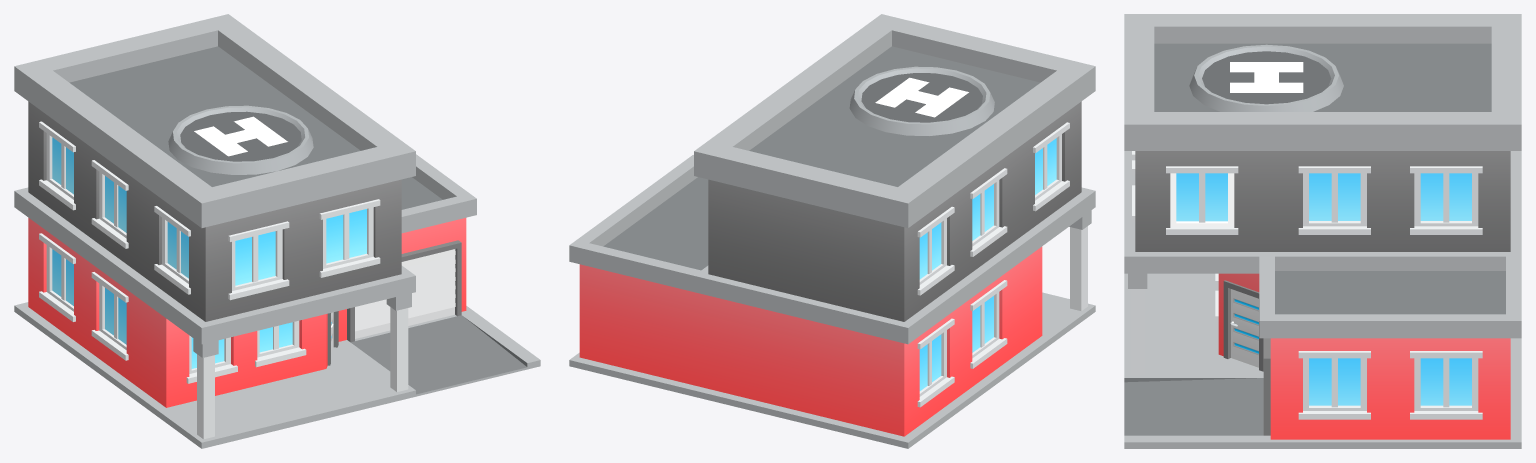
File: Building_Institution_03.glb
3 renders of one model, left to right at view 1: azimuth 30°, elevation 25°; view 2: azimuth 150°, elevation 25°; view 3: azimuth 270°, elevation 25°, orthographic. The views are drawn at different scales.
Parts seen in each view (by area): view 1: Building_Institution_03; view 2: Building_Institution_03; view 3: Building_Institution_03.
Boxes of the visible parts, left/top/right/bottom form: Building_Institution_03: left=14, top=14, right=540, bottom=448; Building_Institution_03: left=569, top=14, right=1095, bottom=448; Building_Institution_03: left=1124, top=14, right=1521, bottom=448.
Size of the model in its own units: 11.31 by 7.83 by 10.84.
Materials: 1 (1 with a texture image).
